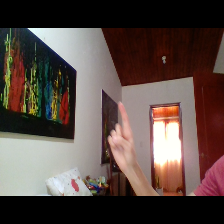2T: (103, 100, 141, 175)
